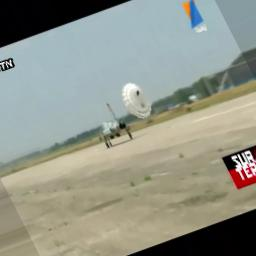Airplane: (90, 108, 140, 150)
